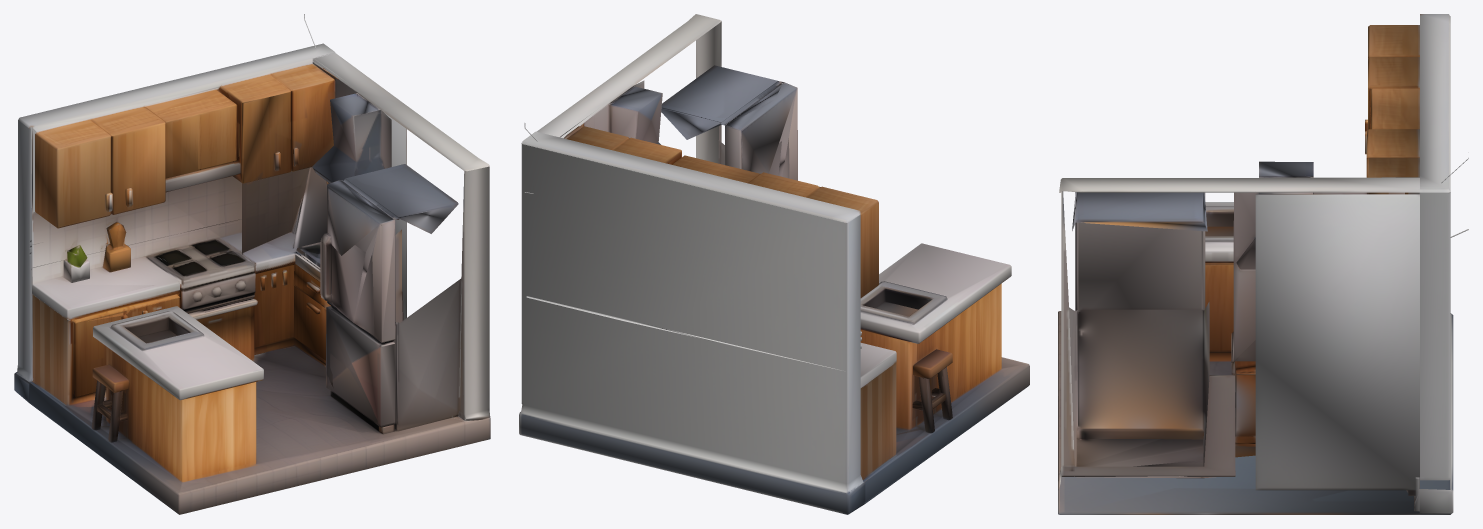
Rendered from kitchen.glb.
3 views of the same model, side by side, from view 1: azimuth 30°, elevation 25°; view 2: azimuth 150°, elevation 25°; view 3: azimuth 270°, elevation 25° (orthographic). The views are drawn at different scales.
Visible parts, largest first — view 1: material; view 2: material; view 3: material.
Boxes of the visible parts, <box> form: material: <box>14,14,490,514</box>; material: <box>519,14,1029,514</box>; material: <box>1058,14,1468,514</box>.
Size of the model in its own units: 1.9 by 1.75 by 1.83.
Materials: 1 (1 with a texture image).
